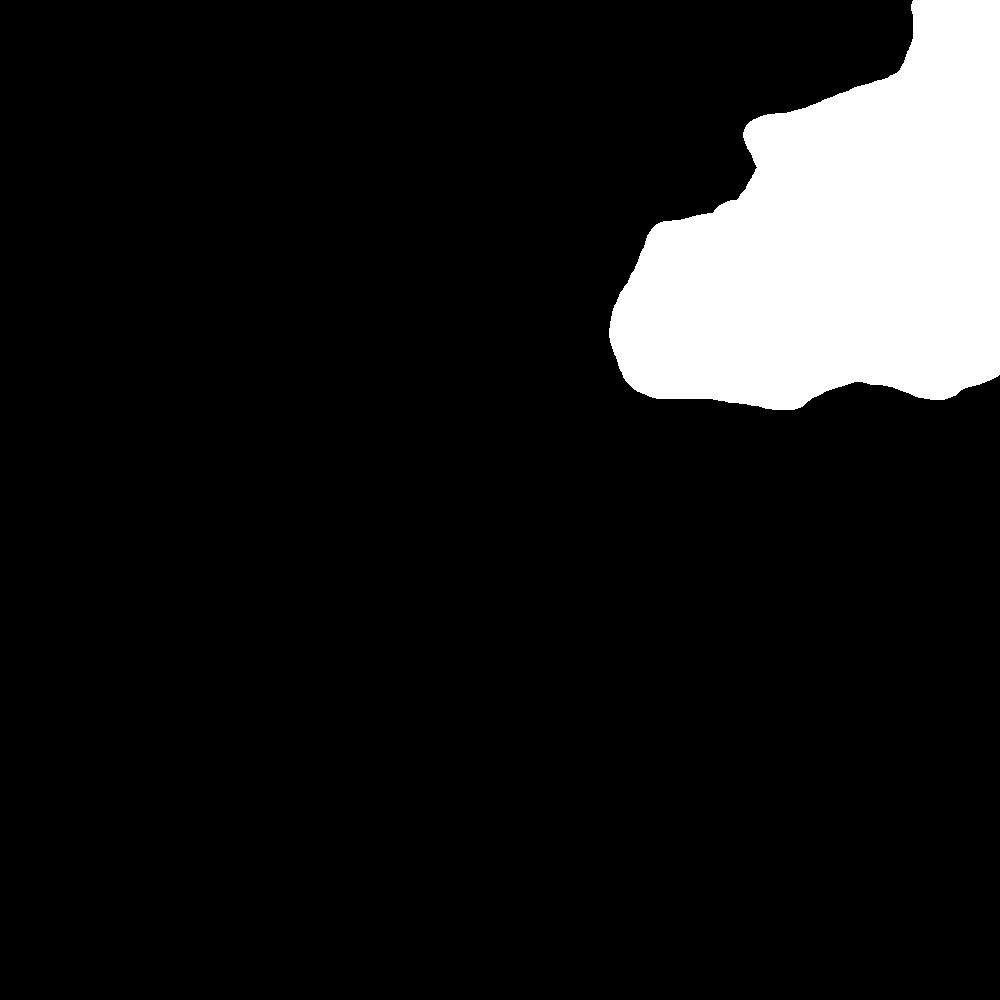legal: (610, 1, 1000, 410)
